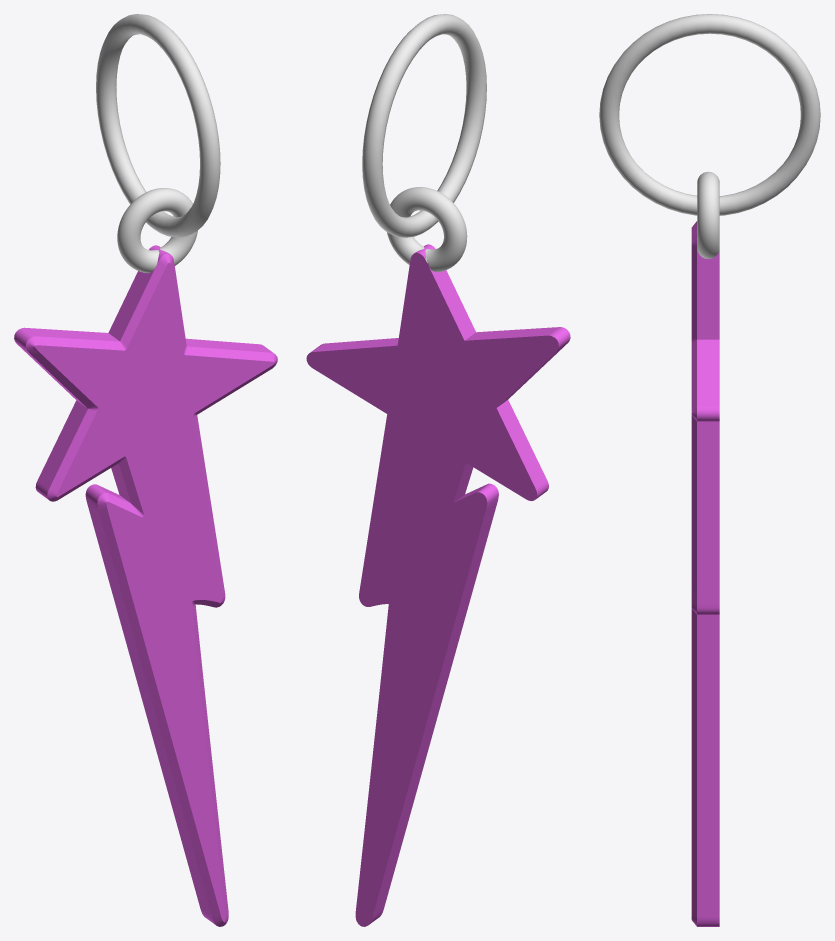
Rendered from CHARMS4.glb.
The picture shows the model from 3 angles, left to right: view 1: azimuth 30°, elevation 25°; view 2: azimuth 150°, elevation 25°; view 3: azimuth 270°, elevation 25°; orthographic projection. The views are drawn at different scales.
Visible parts, largest first — view 1: charm5; view 2: charm5; view 3: charm5.
Part boxes in pixels (x1,y1,x2,y2): charm5: [14, 14, 277, 926]; charm5: [306, 14, 570, 926]; charm5: [599, 14, 820, 926].
Bounding box in the file's own units: 1.99 × 6.88 × 1.56.
